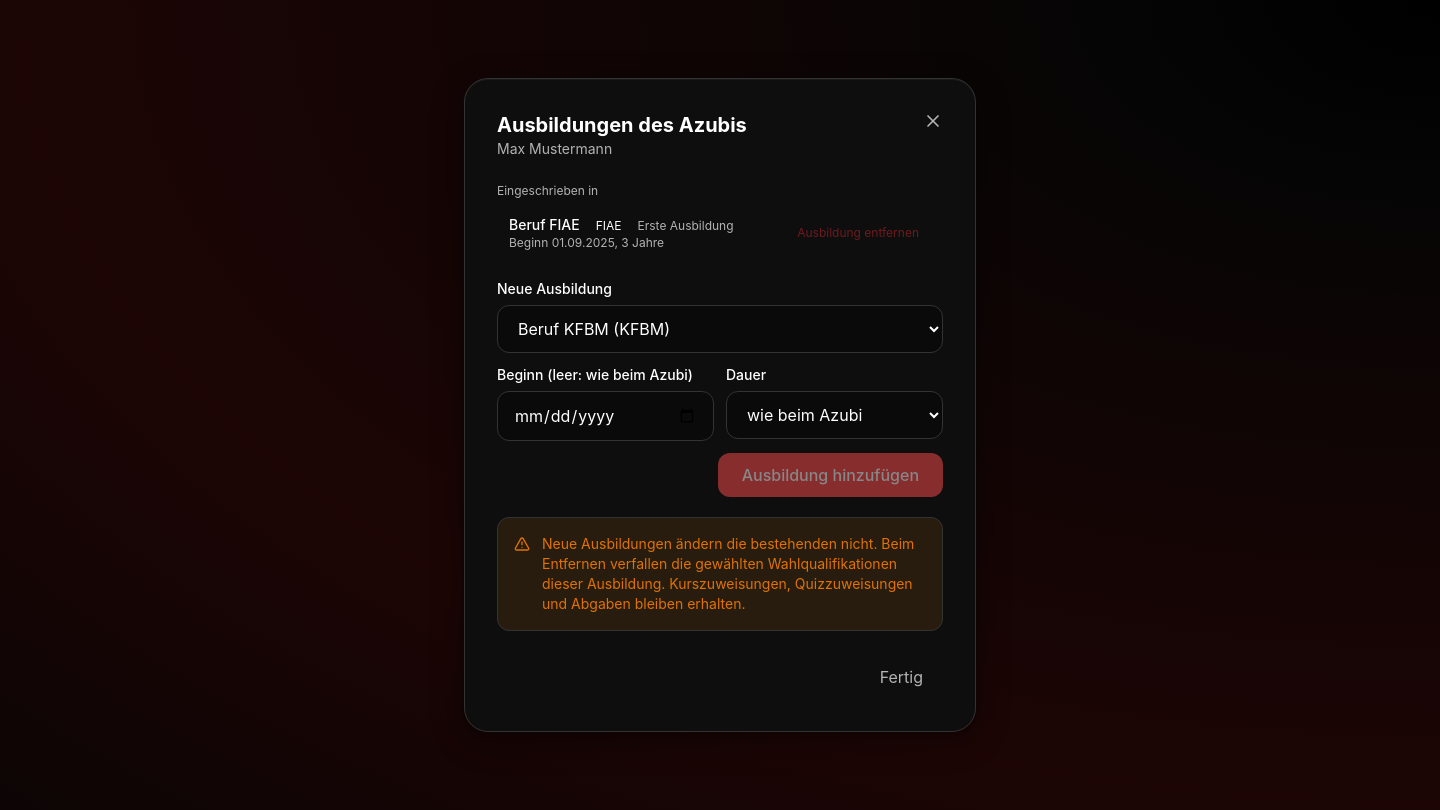
Test: TraineeEnrollmentDialog › adding a training › adds the chosen training with PUT, keeps the dialog open and shows the new list
Select "Beruf KFBM (KFBM)" in the dropdown labelled "Neue Ausbildung" at (720, 329), box [497,305,943,353]
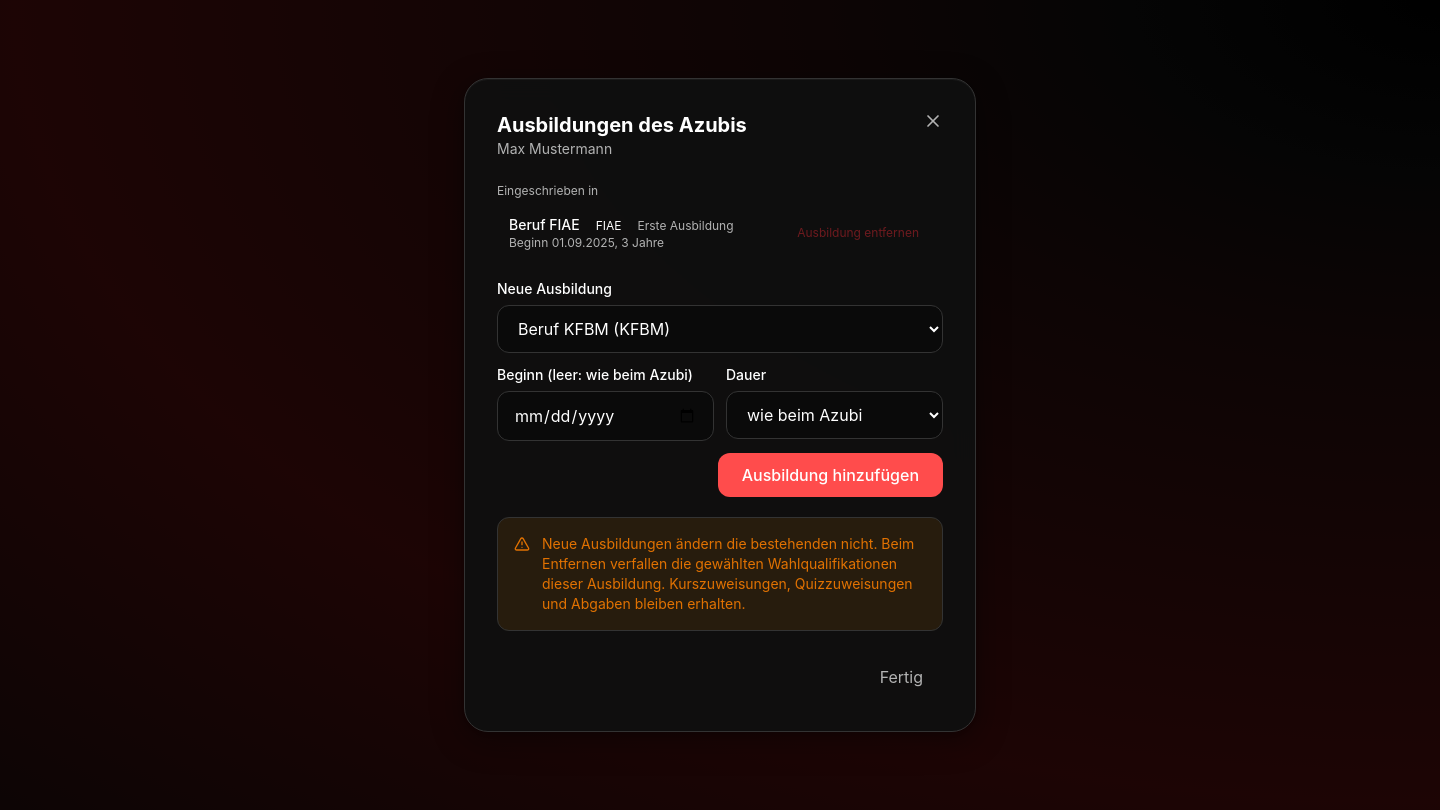
Click the button "Ausbildung hinzufügen" at (830, 475), box [718,453,943,497]
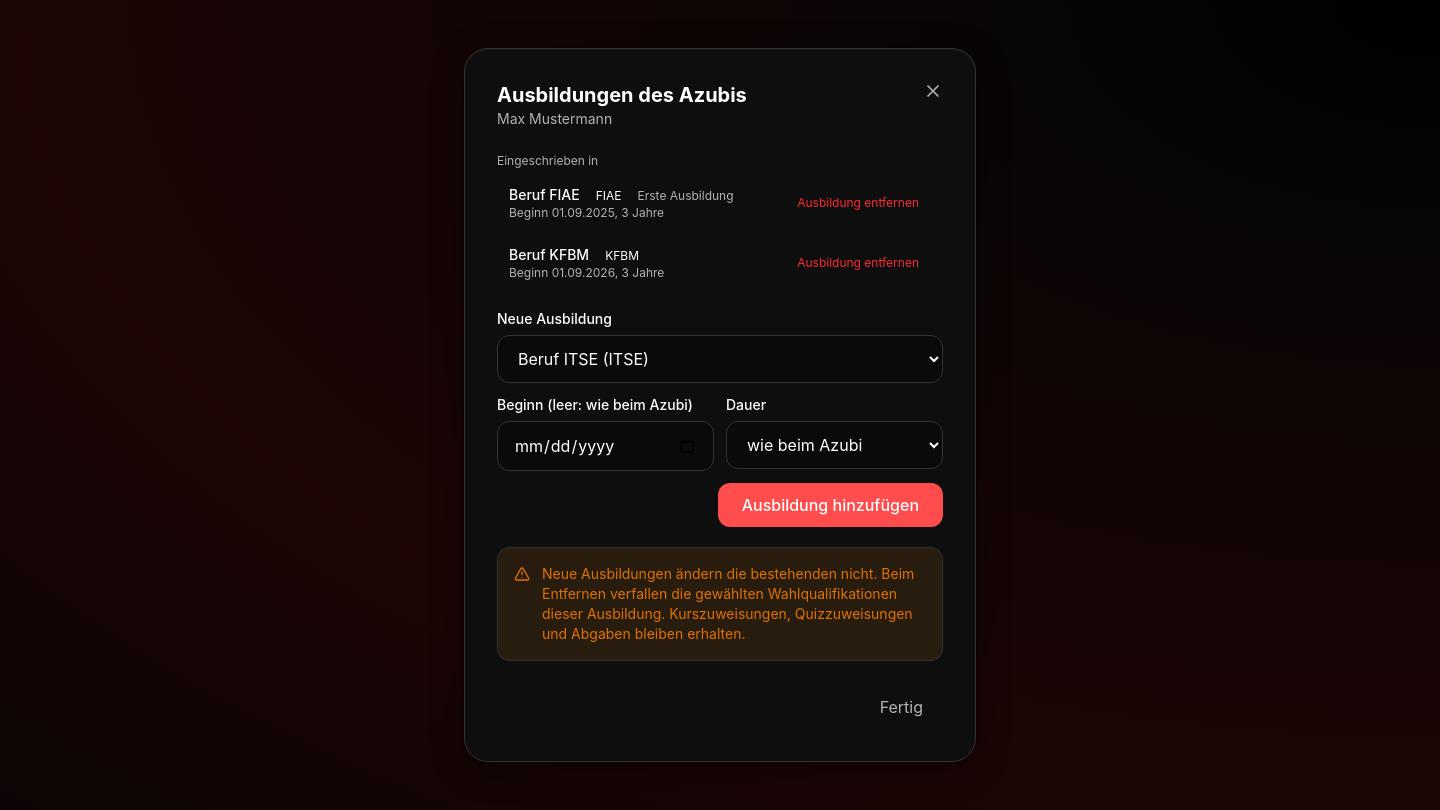
Check: the number of list items is 2, box [497,177,943,229]; [497,237,943,289]
